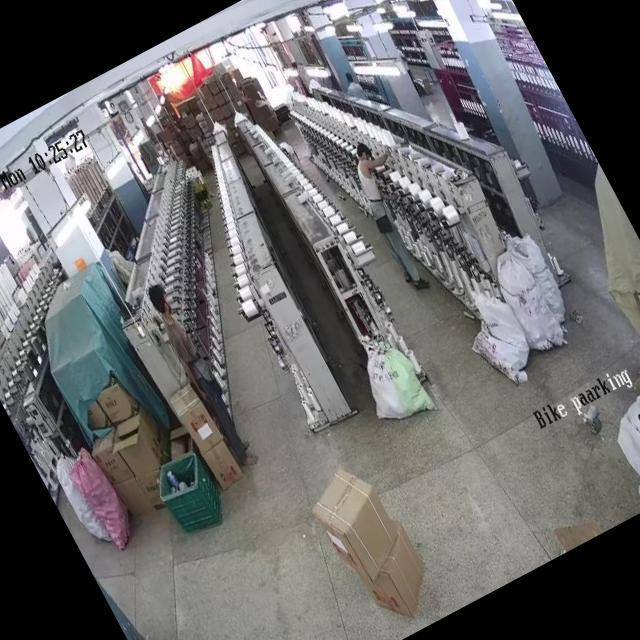person: (137, 268, 261, 463), (340, 136, 438, 290), (280, 134, 314, 180), (342, 70, 364, 98)
